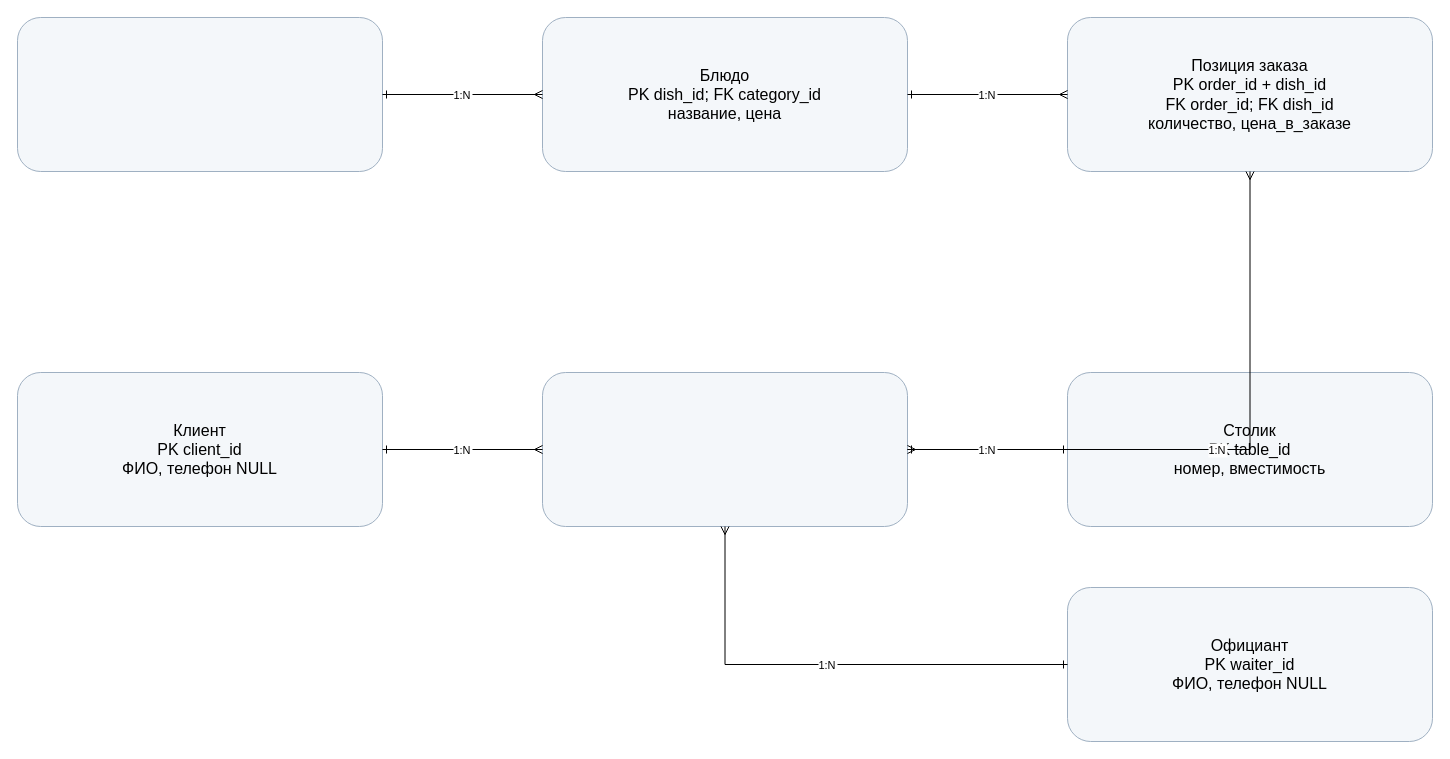
This 1450x759 diagram has some shape labels left out. The centre of each missing label's shape, as x and y in pixels:
"Заказ PK order_id; FK client_id FK table_id; FK waiter_id дата, статус" belongs at pixel 725 449.
"Категория PK category_id название NOT NULL" belongs at pixel 199 94.
